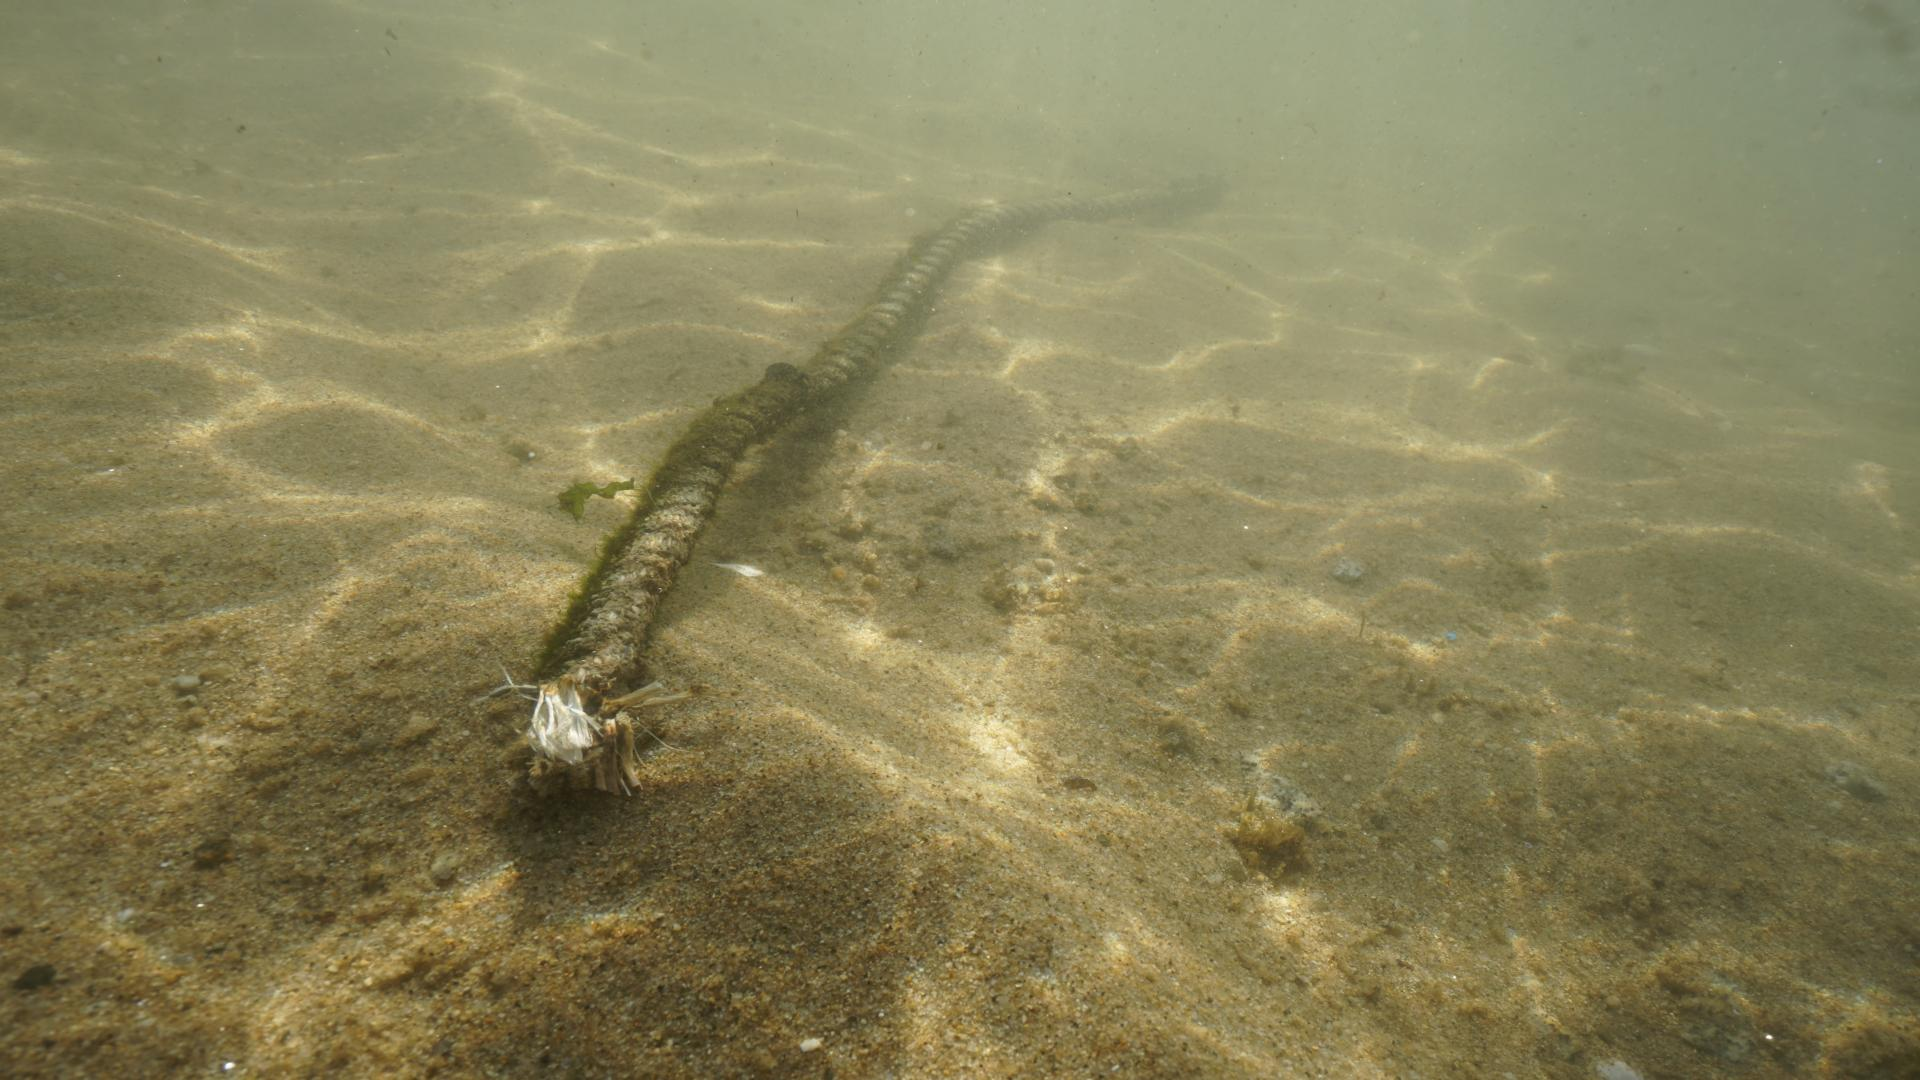rope: (535, 177, 1221, 699)
